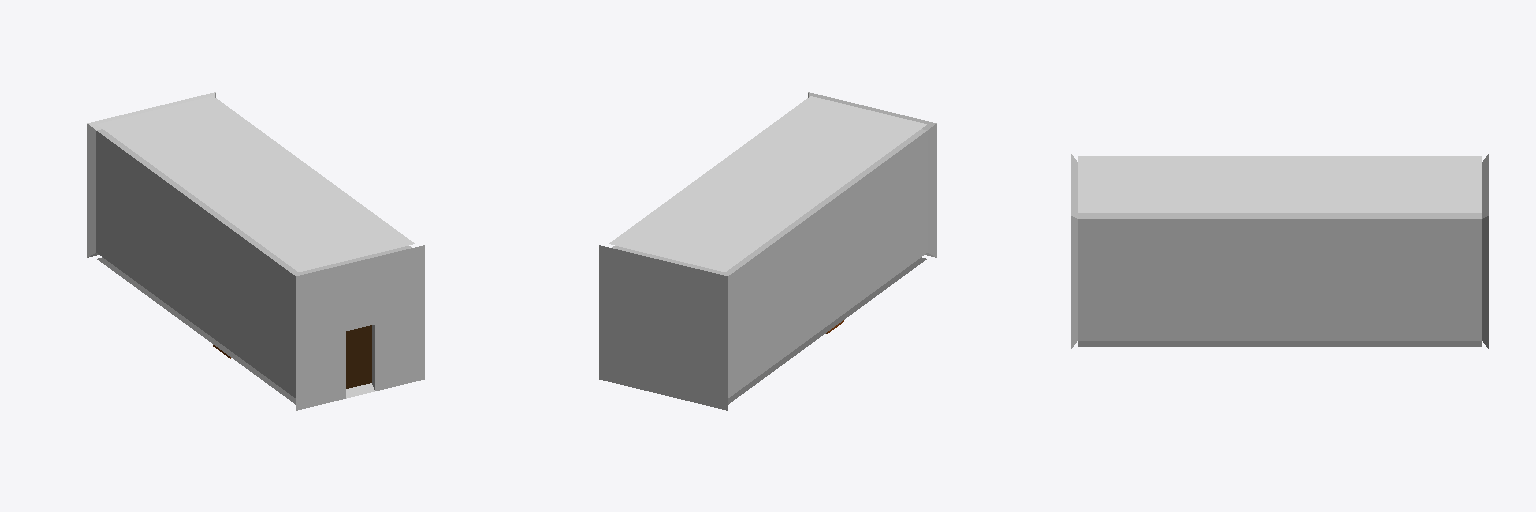
The model's file is room.obj.
3 renders of one model, left to right at view 1: azimuth 30°, elevation 25°; view 2: azimuth 150°, elevation 25°; view 3: azimuth 270°, elevation 25°, orthographic.
Size of the model in its own units: 88 by 94 by 248.